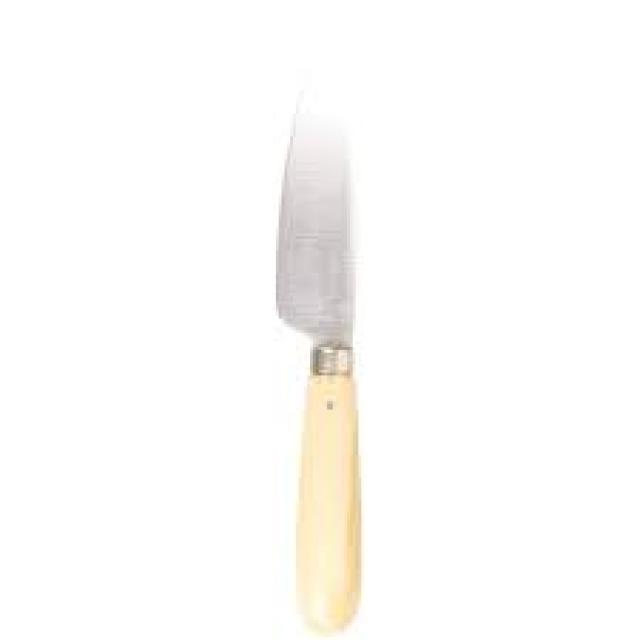Knife: (273, 88, 361, 634)
